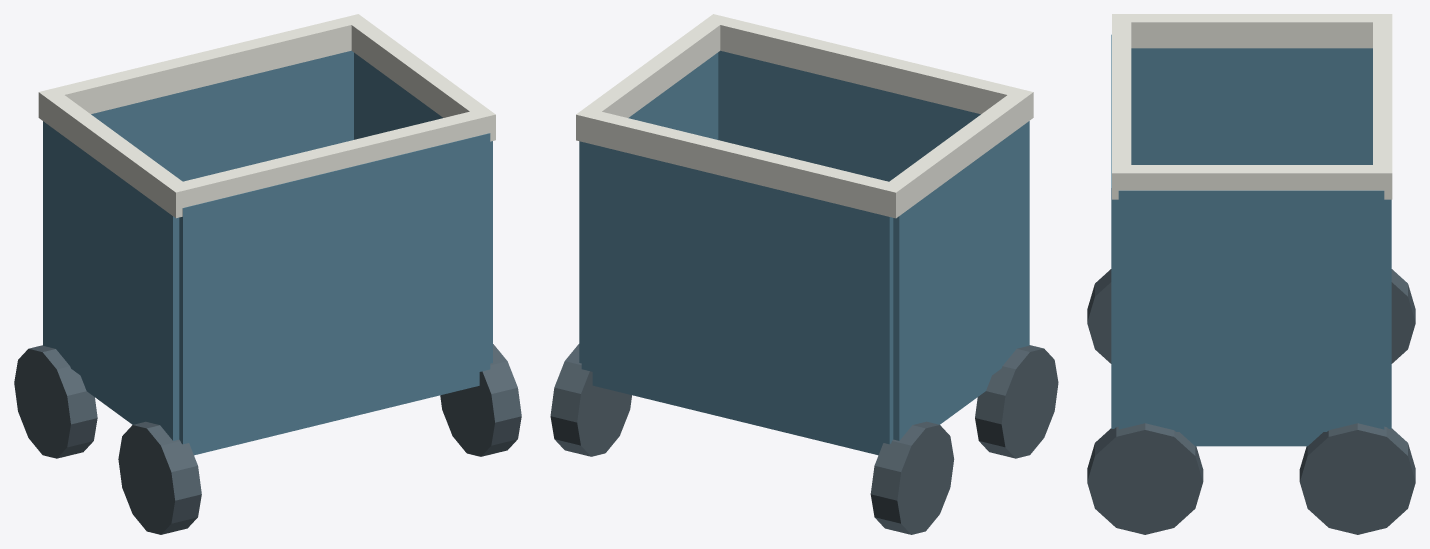
File: football-soccer-club-grounds-laundry-trolley-8899c51b.glb
3 renders of one model, left to right at view 1: azimuth 30°, elevation 25°; view 2: azimuth 150°, elevation 25°; view 3: azimuth 270°, elevation 25°, orthographic. The views are drawn at different scales.
Parts seen in each view (by area): view 1: laundry-trolley, wheel--0.39-0.22, wheel--0.39--0.22, wheel-0.39-0.22; view 2: laundry-trolley, wheel--0.39--0.22, wheel--0.39-0.22, wheel-0.39--0.22; view 3: laundry-trolley, wheel-0.39--0.22, wheel-0.39-0.22, wheel--0.39--0.22, wheel--0.39-0.22.
Part boxes in pixels (x1=…): laundry-trolley: x1=38, y1=14, x2=495, y2=455; wheel--0.39-0.22: x1=118, y1=421, x2=201, y2=534; wheel--0.39--0.22: x1=14, y1=345, x2=97, y2=458; wheel-0.39-0.22: x1=440, y1=344, x2=521, y2=456; laundry-trolley: x1=576, y1=14, x2=1033, y2=455; wheel--0.39--0.22: x1=870, y1=421, x2=954, y2=534; wheel--0.39-0.22: x1=975, y1=345, x2=1058, y2=458; wheel-0.39--0.22: x1=550, y1=344, x2=631, y2=456; laundry-trolley: x1=1111, y1=14, x2=1392, y2=446; wheel-0.39--0.22: x1=1299, y1=423, x2=1415, y2=534; wheel-0.39-0.22: x1=1087, y1=423, x2=1203, y2=534; wheel--0.39--0.22: x1=1391, y1=269, x2=1415, y2=363; wheel--0.39-0.22: x1=1087, y1=269, x2=1111, y2=363.
Bounding box in the file's own units: 0.845 × 0.81 × 0.68.
